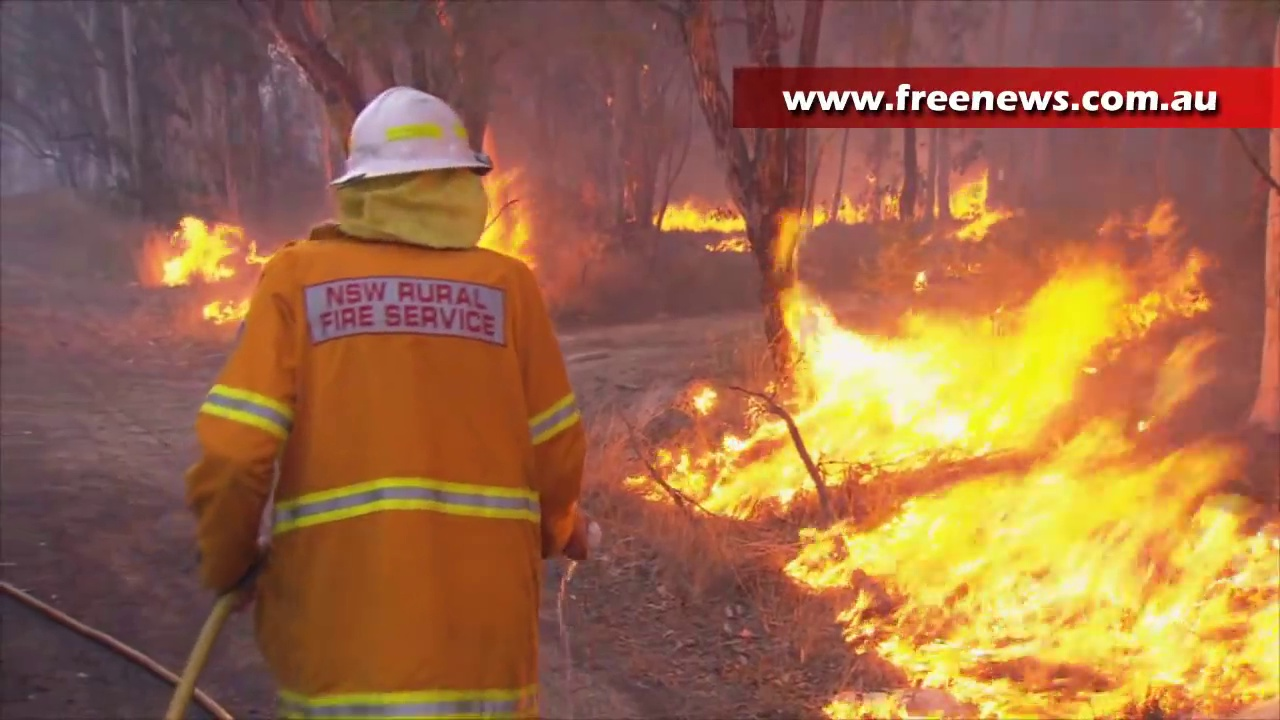fire: (792, 418, 1280, 720), (649, 264, 1131, 514), (924, 663, 1136, 713), (169, 219, 235, 283), (1133, 267, 1201, 328), (945, 180, 999, 241), (656, 206, 740, 233), (205, 303, 248, 320)
